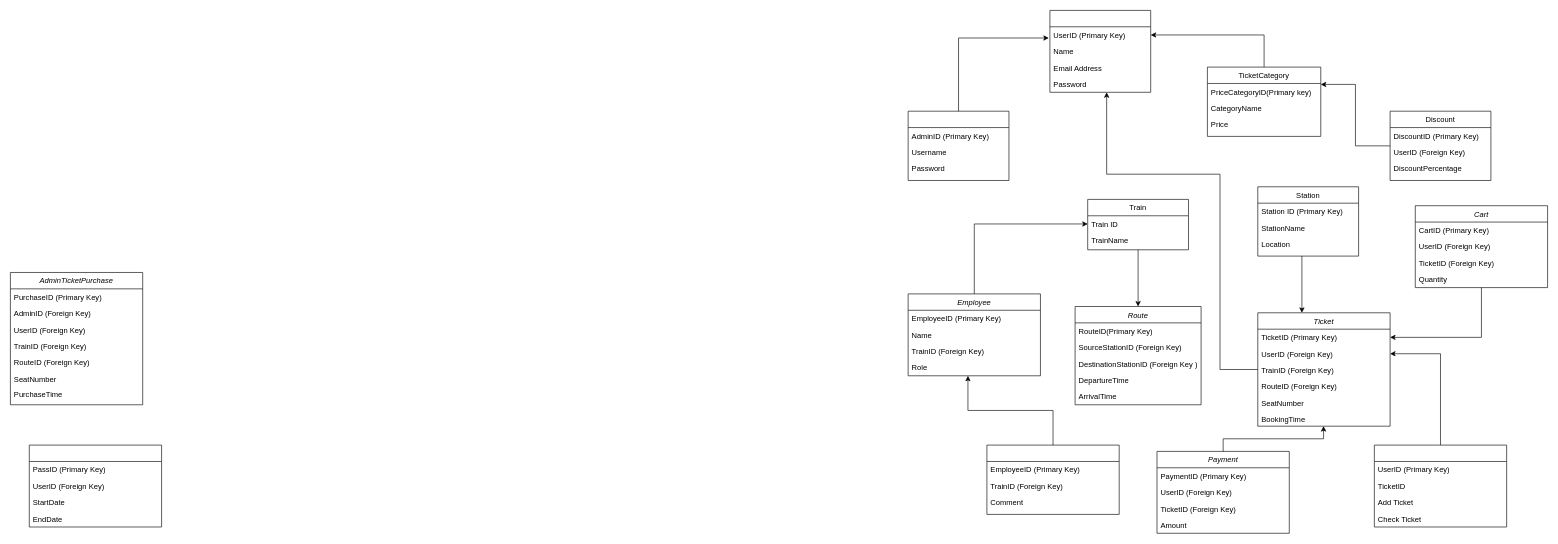
Some shapes in this 1558 by 544 pixel diagram are drawn without their labels. The box of each missing label's shape, as (x1, y1, x2, y2) in pixels:
Admin: (1374, 444, 1507, 527)
MonthlyPass: (29, 444, 162, 527)
Review: (986, 444, 1119, 514)
Users: (1049, 10, 1151, 92)
UserType: (908, 111, 1009, 180)
